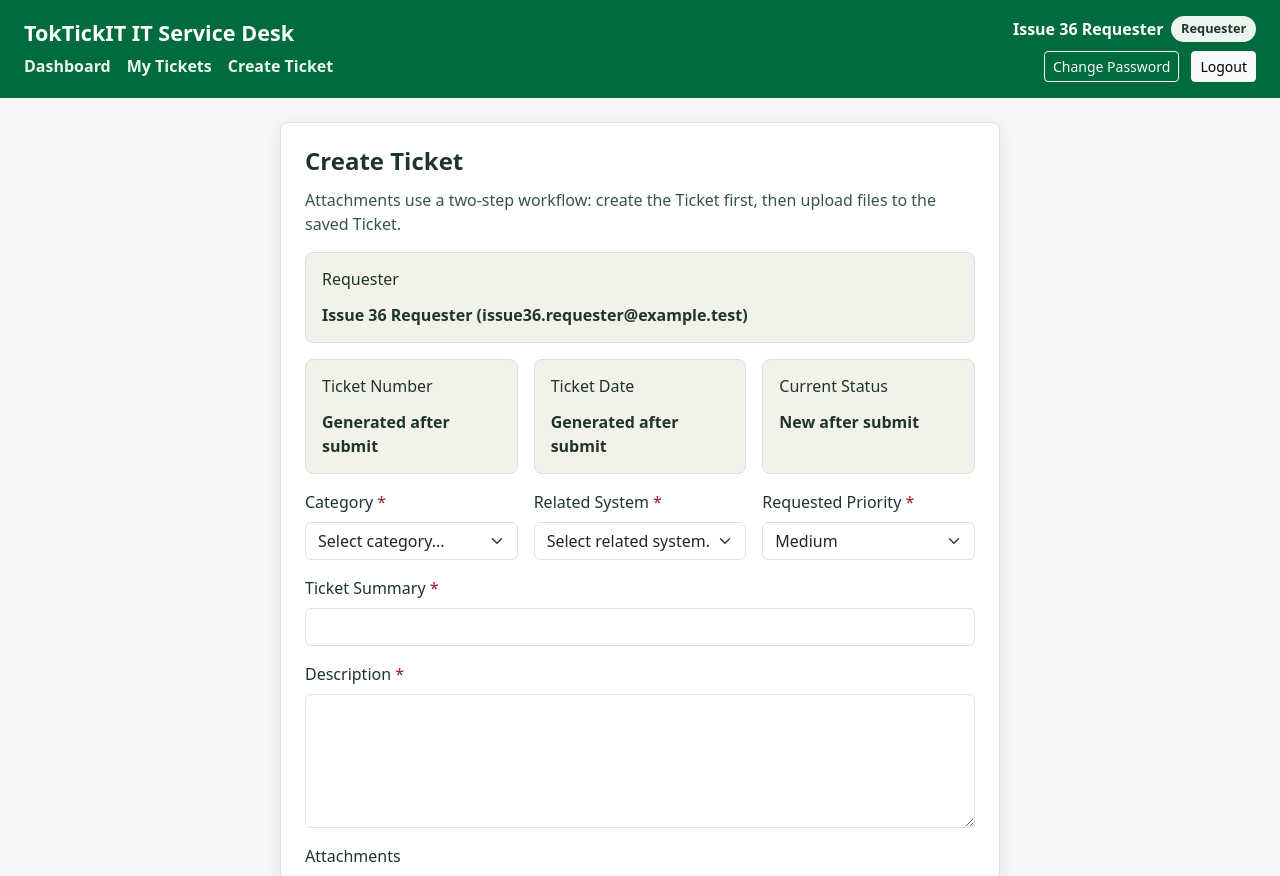
Test: Lab 3 authenticated Requester regression UI › UI-04 uses canonical authenticated My Tickets and never sends requester identity in the URL
Click the link "My Tickets". click: (169, 66)
box: [127,54,212,78]
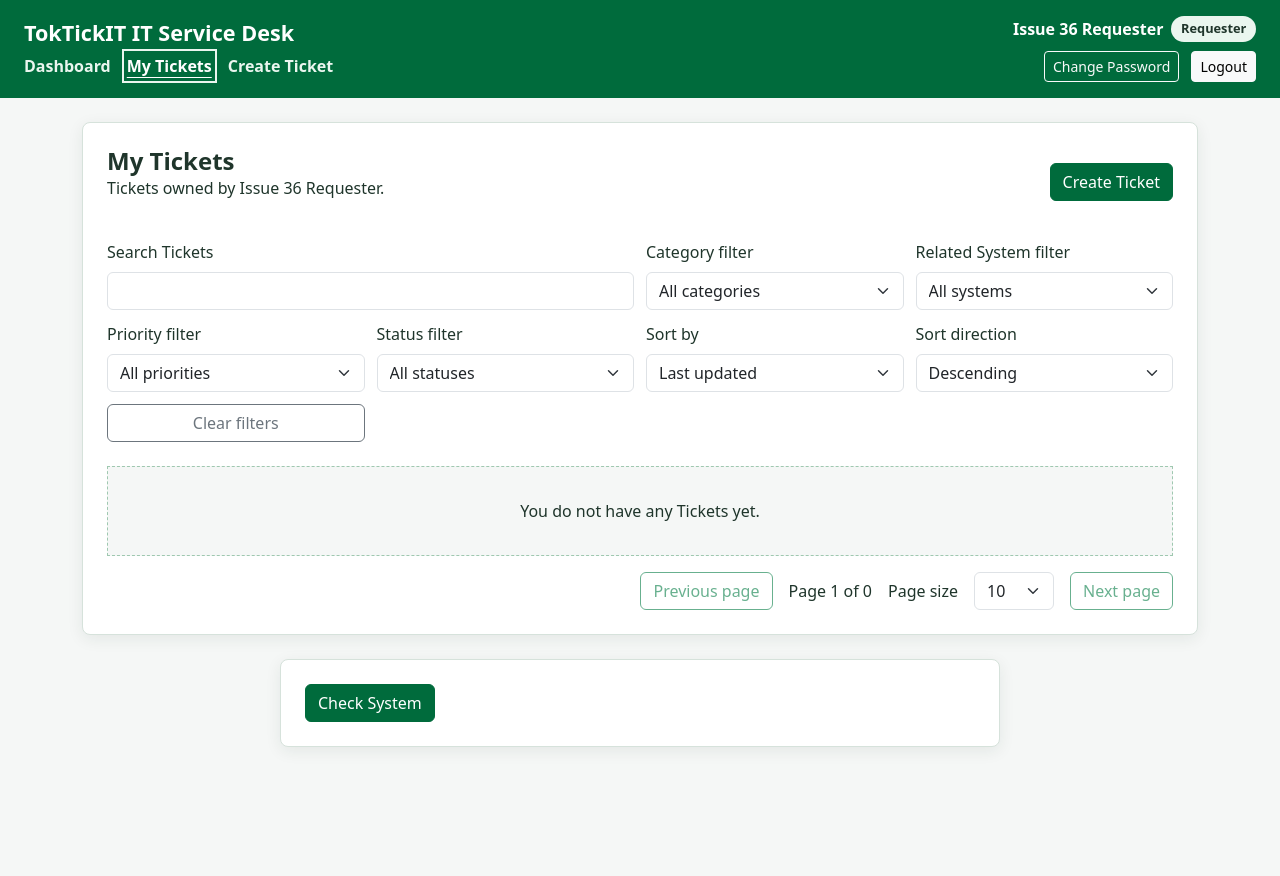
expect the heading "My Tickets" is shown: met, box [107,144,234,177]
